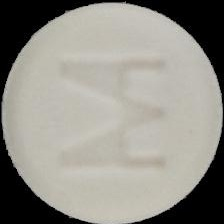0378-0231: (0, 0, 224, 224)
